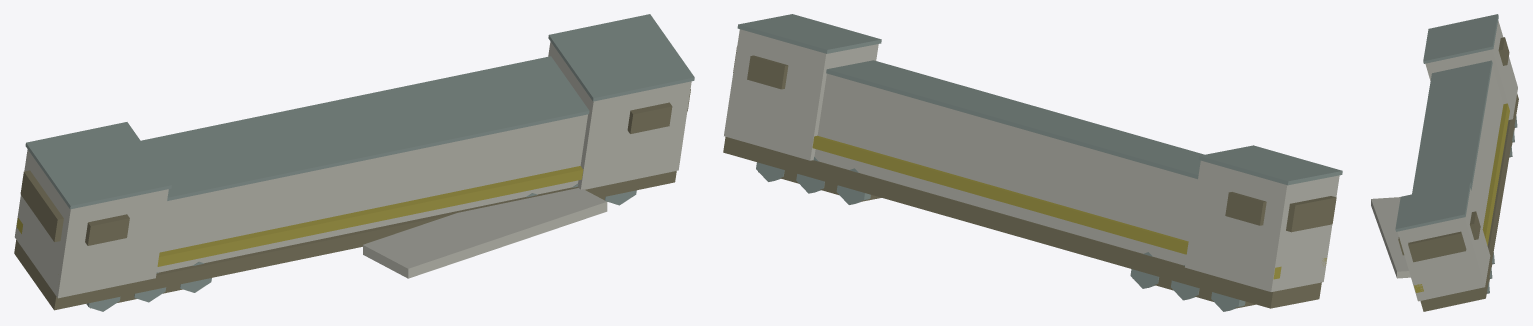
Rendered from SM_Locomotora_v1_Ladeada_LOD1.fbx.
3 renders of one model, left to right at view 1: azimuth 30°, elevation 25°; view 2: azimuth 150°, elevation 25°; view 3: azimuth 270°, elevation 25°, orthographic. The views are drawn at different scales.
Parts seen in each view (by area): view 1: SM_aqui_paso_algo_v1_LOD1; view 2: SM_aqui_paso_algo_v1_LOD1; view 3: SM_aqui_paso_algo_v1_LOD1.
Part boxes in pixels (box(x1,y1,x2,y2)): SM_aqui_paso_algo_v1_LOD1: box(14, 14, 694, 311); SM_aqui_paso_algo_v1_LOD1: box(723, 14, 1342, 311); SM_aqui_paso_algo_v1_LOD1: box(1371, 14, 1518, 311).
Bounding box in the file's own units: 19.5 × 4.86 × 5.94.
